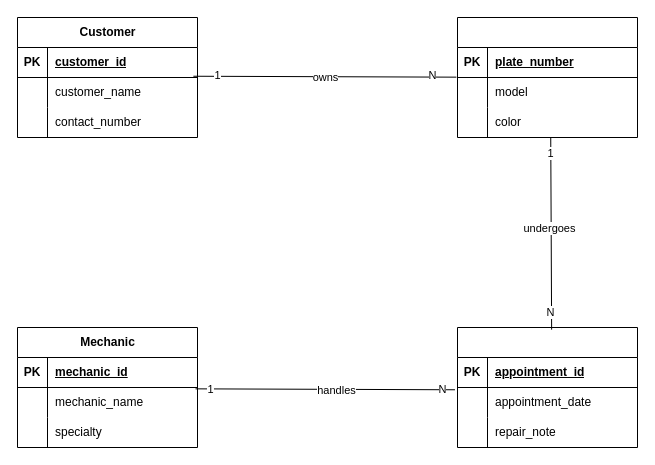
Image size: 655x465. Some labels were removed from this diagram. The box of each missing label's shape, as (x1, y1, x2, y2) in pixels:
Car: (456, 16, 638, 138)
Service Appointment: (456, 326, 638, 448)
